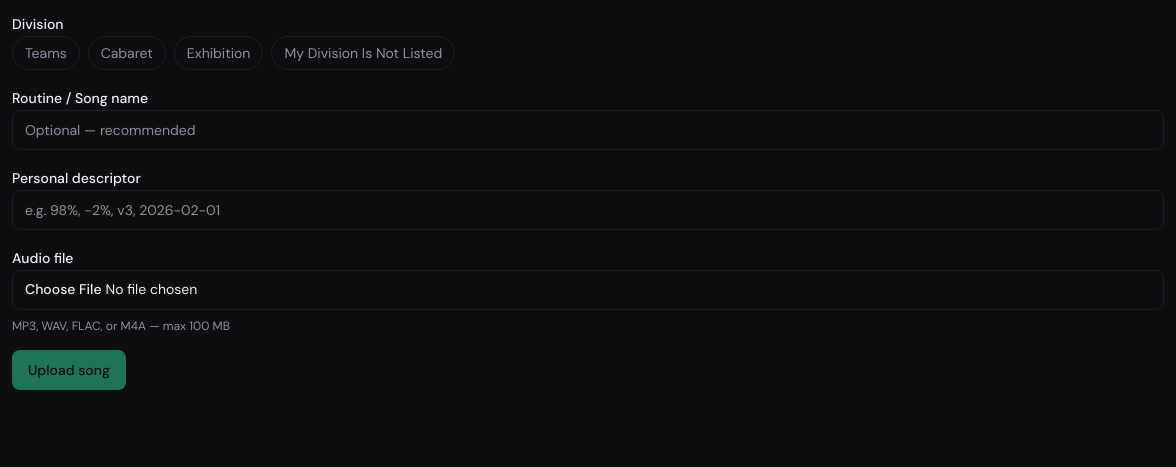
SpecialUploadForm › points to My Profile and blocks upload when the user has no team
The width and height of the screenshot is (1176, 467).
What coordinates should you click on to do the following:
click the radio button labelled "Teams"
I would click on:
 (46, 53)
Its box is [12,36,80,70].
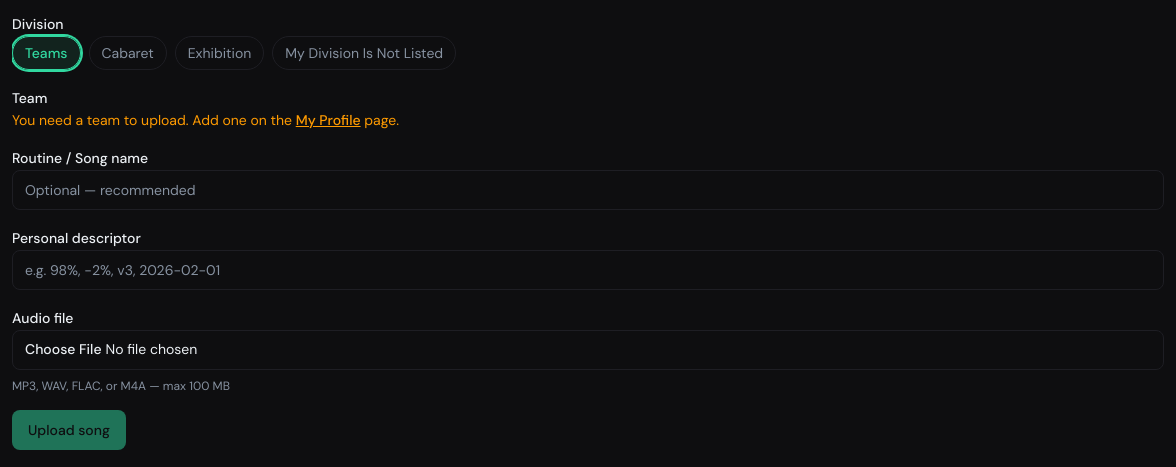
Expected: the button "Upload song" is disabled, [12,410,126,450]
Now the text "You need a team to upload. Add one on the My Profile page." is shown, box [12,111,399,129]
